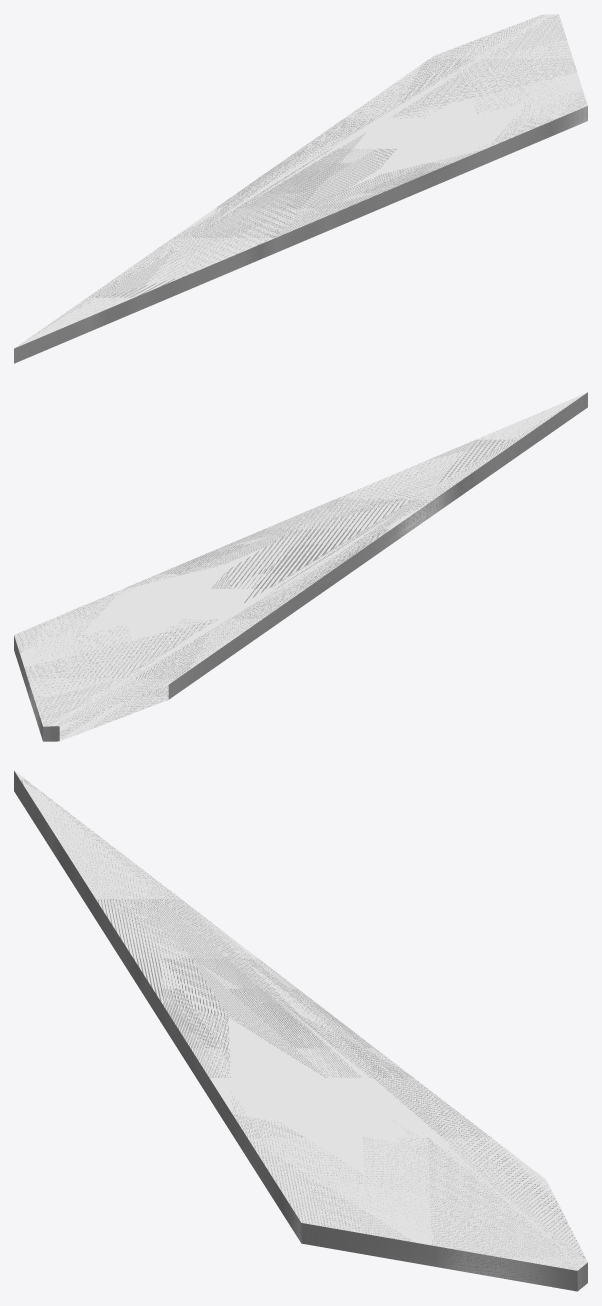
3 views of the same model, one above another, from view 1: azimuth 30°, elevation 25°; view 2: azimuth 210°, elevation 25°; view 3: azimuth 270°, elevation 25° (orthographic). The views are drawn at different scales.
Size of the model in its own units: 0.9312 by 0.018 by 0.4513.
